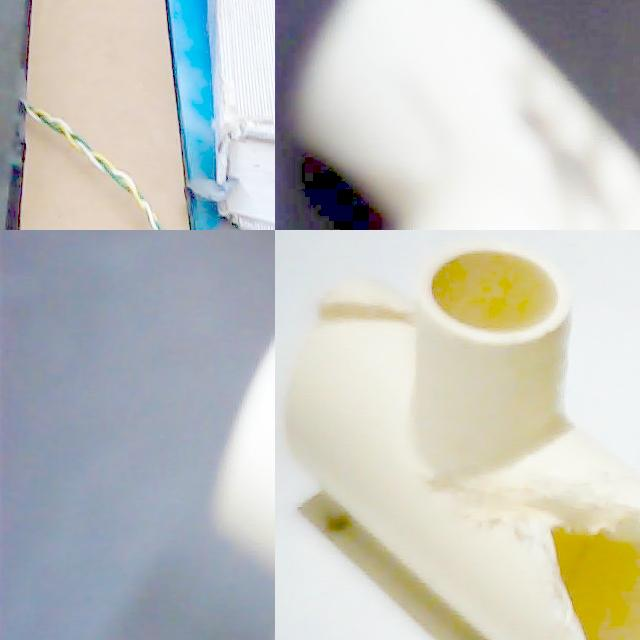Defective: (486, 465, 640, 640), (316, 293, 396, 357)
T Joint: (281, 239, 640, 640), (288, 0, 640, 230)
